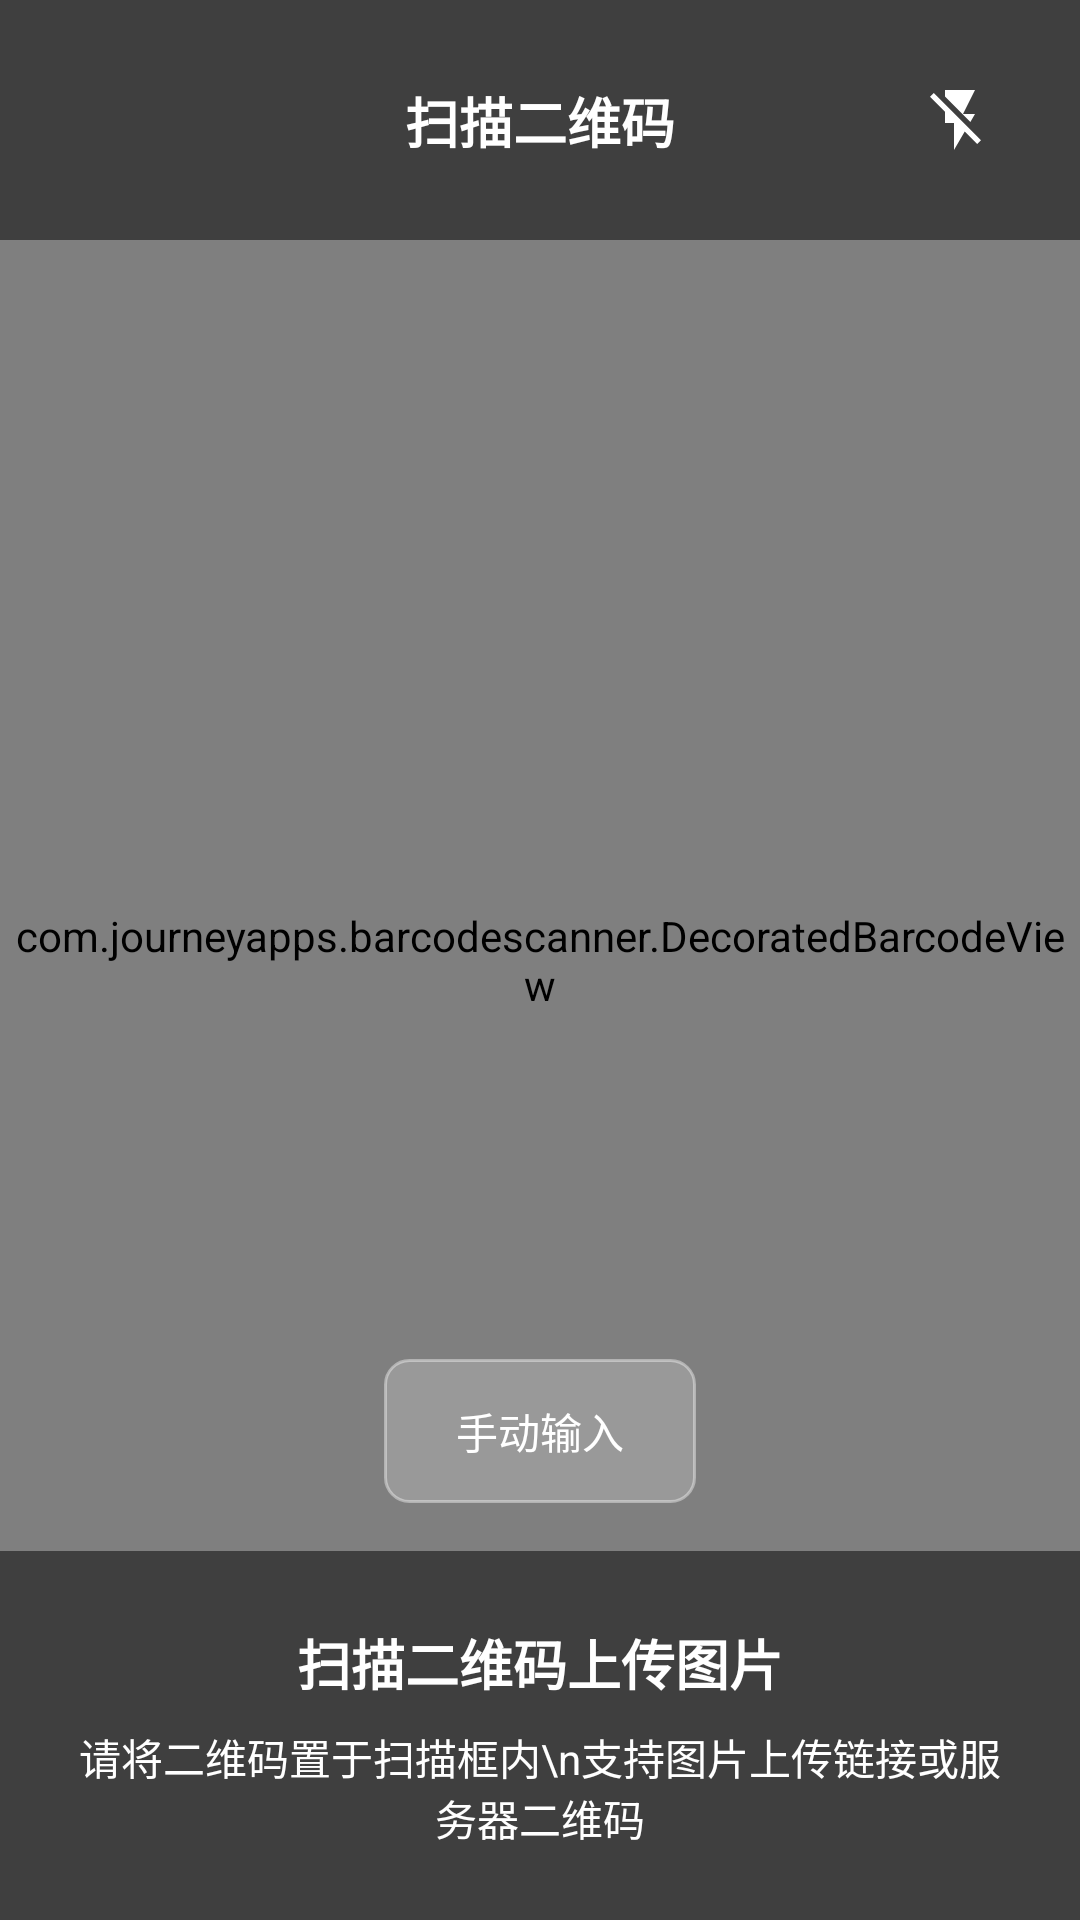

Where to tap for icons on this 1080×1920 app screen, as (x,y):
flash off: (955,120)
